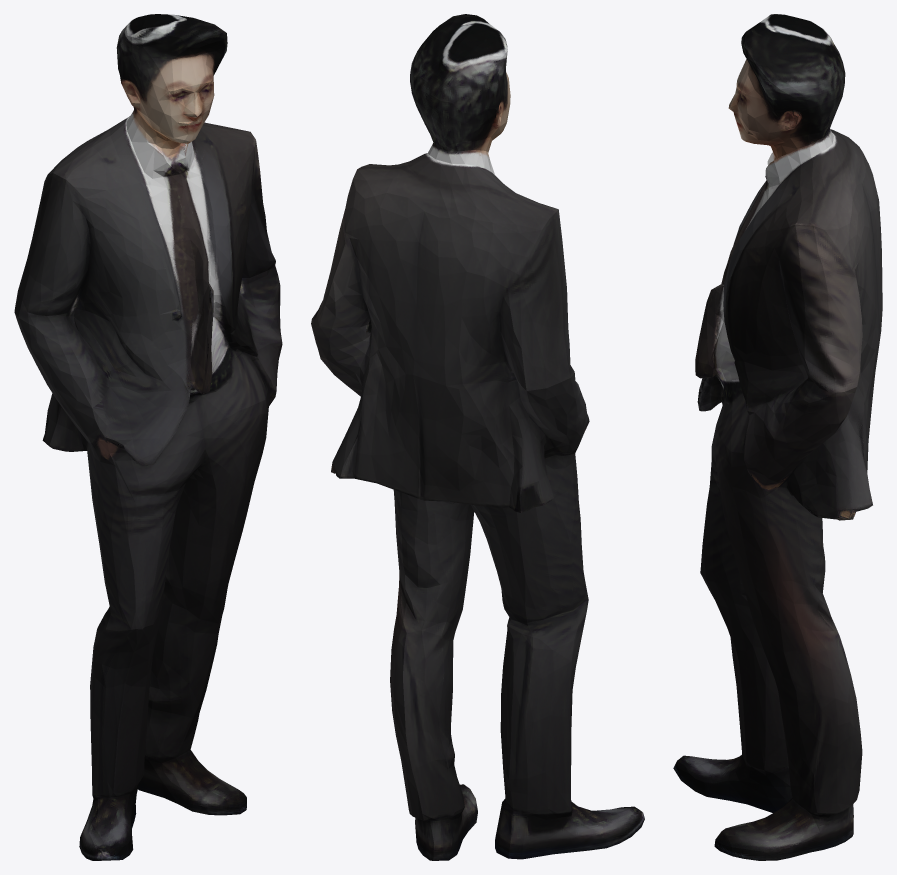
The model's file is man.obj.
3 renders of one model, left to right at view 1: azimuth 30°, elevation 25°; view 2: azimuth 150°, elevation 25°; view 3: azimuth 270°, elevation 25°, orthographic. The views are drawn at different scales.
Bounding box in the file's own units: 0.0925 × 0.2751 × 0.0644.
1 material, 1 textured.
